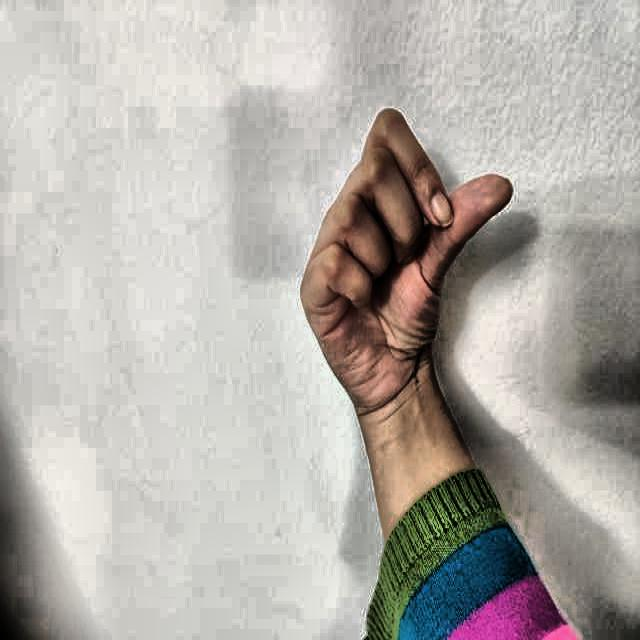Ay: (272, 90, 533, 447)
